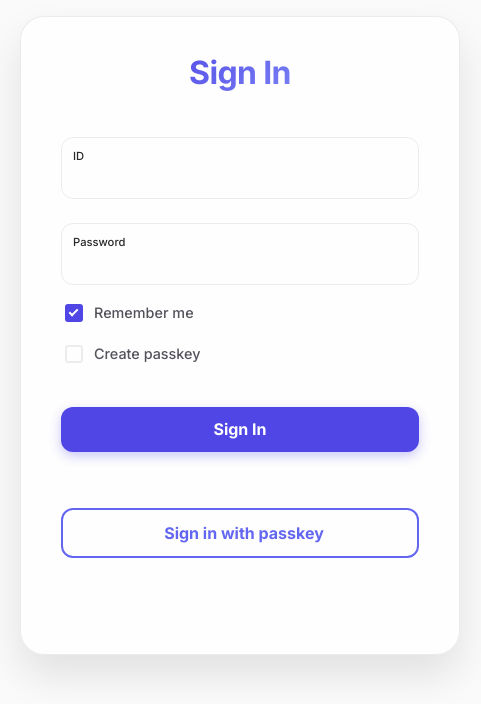
it: Account View › shows error when passkey login verification fails
Type "person@example.com" into the field named "ID". click: (244, 176)
box: top-left (82, 159), bottom-right (406, 194)
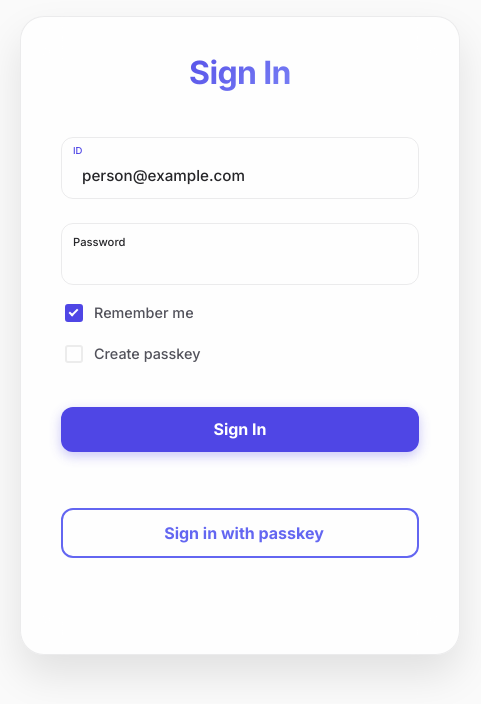
Click the button "Sign in with passkey". click: (240, 533)
box: top-left (61, 508), bottom-right (419, 558)
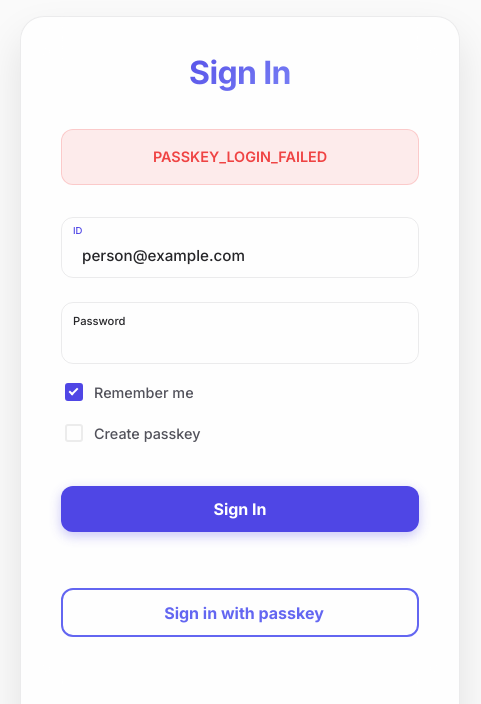
Expected: the text "PASSKEY_LOGIN_FAILED" is shown, top-left (61, 129), bottom-right (419, 185)
